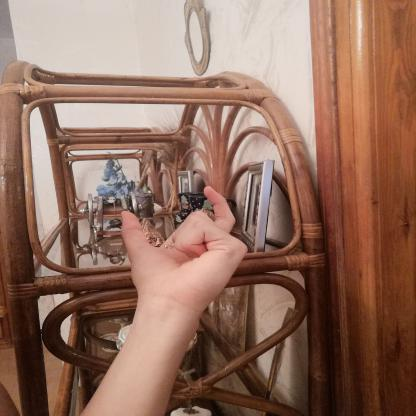NOON: (104, 177, 258, 323)
